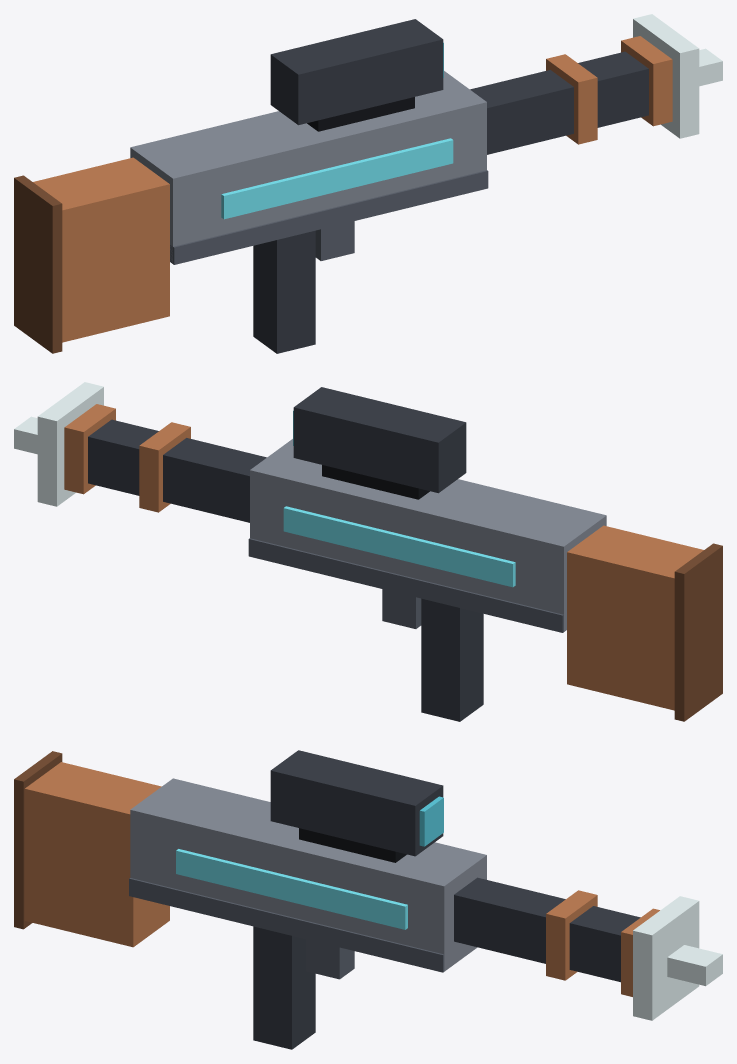
Rendered from rifle.glb.
The picture shows the model from 3 angles, top to bottom: view 1: azimuth 30°, elevation 25°; view 2: azimuth 150°, elevation 25°; view 3: azimuth 330°, elevation 25°; orthographic projection.
Visible parts, largest first — view 1: gun.001, muzzle; view 2: gun.001, muzzle; view 3: gun.001, muzzle.
Part boxes in pixels (x1,y1,x2,y2): gun.001: (14,19,672,353); muzzle: (633,14,722,138); gun.001: (64,387,722,721); muzzle: (14,382,103,506); gun.001: (14,750,659,1049); muzzle: (633,896,722,1020).
Bounding box in the file's own units: 1.15 × 0.4437 × 0.14.
